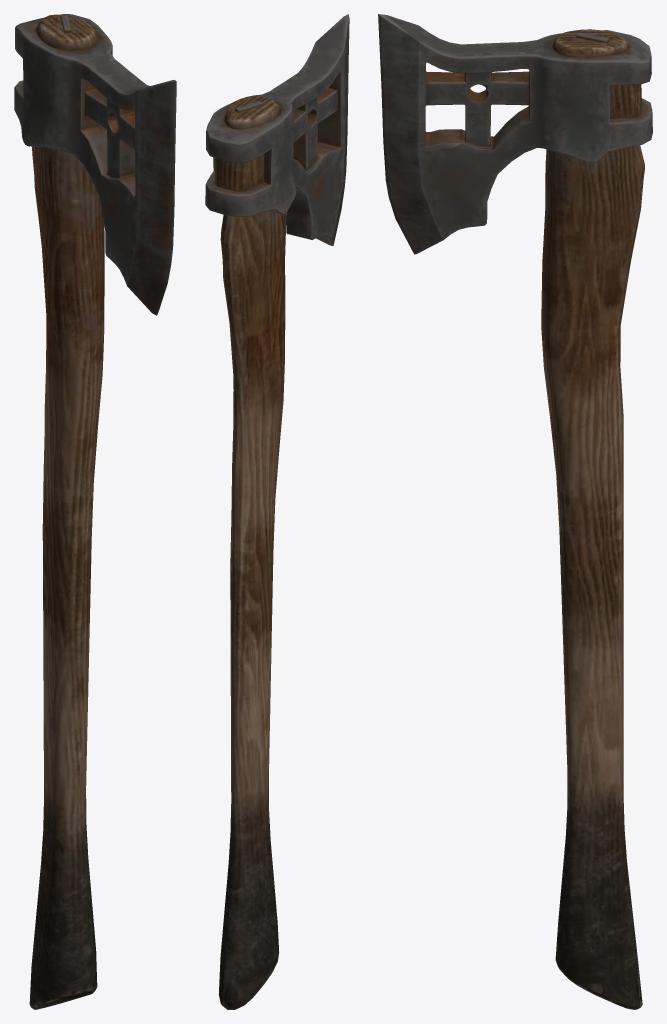
File: wooden_axe_03.glb
3 views of the same model, side by side, from view 1: azimuth 30°, elevation 25°; view 2: azimuth 150°, elevation 25°; view 3: azimuth 270°, elevation 25° (orthographic). The views are drawn at different scales.
Parts seen in each view (by area): view 1: wooden_axe_03; view 2: wooden_axe_03; view 3: wooden_axe_03.
Boxes of the visible parts, x1,y1,x2,y2 form: wooden_axe_03: (14, 14, 176, 1009); wooden_axe_03: (205, 14, 349, 1009); wooden_axe_03: (378, 14, 652, 1009).
Bounding box in the file's own units: 0.0504 × 0.6318 × 0.1584.
Materials: 1 (1 with a texture image).
